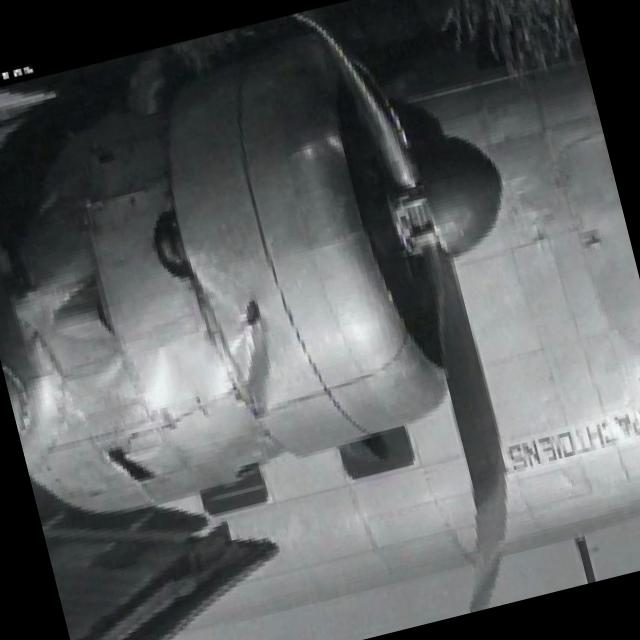dent: (223, 307, 291, 402)
